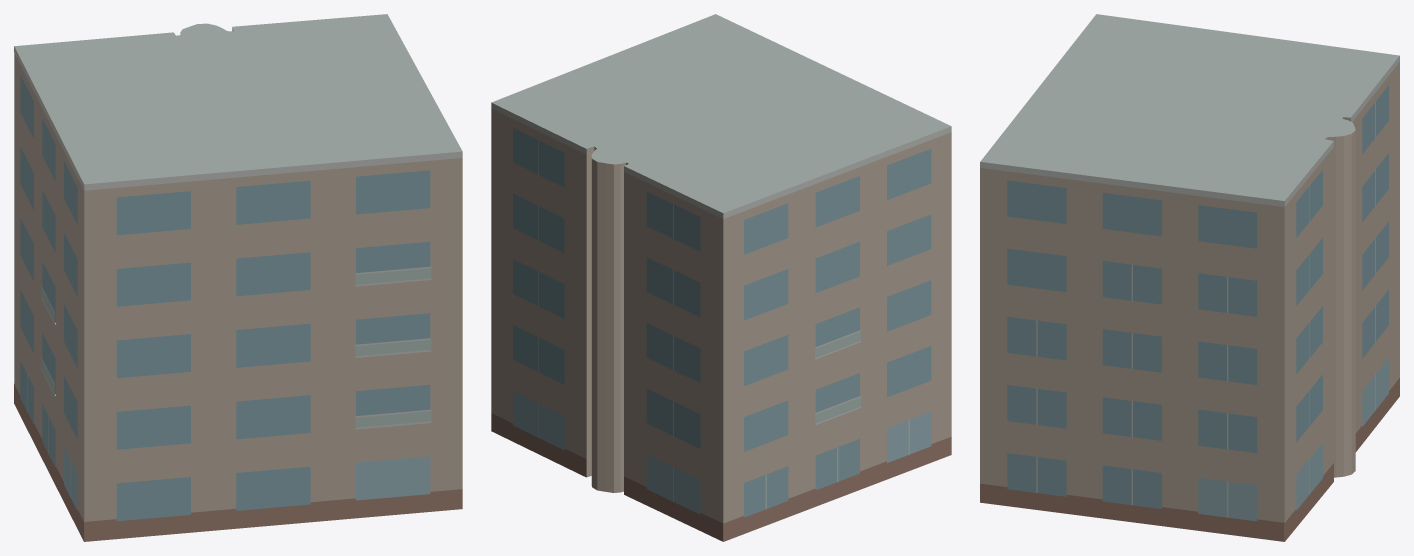
File: survey-upis-32912919.glb
3 views of the same model, side by side, from view 1: azimuth 30°, elevation 25°; view 2: azimuth 150°, elevation 25°; view 3: azimuth 270°, elevation 25° (orthographic). The views are drawn at different scales.
Parts seen in each view (by area): view 1: survey-upis-32912919.tmp; view 2: survey-upis-32912919.tmp; view 3: survey-upis-32912919.tmp.
Boxes of the visible parts, left/top/right/bottom form: survey-upis-32912919.tmp: left=14, top=14, right=462, bottom=541; survey-upis-32912919.tmp: left=491, top=14, right=951, bottom=541; survey-upis-32912919.tmp: left=980, top=14, right=1399, bottom=541.
Bounding box in the file's own units: 16.26 × 13.8 × 15.41.
